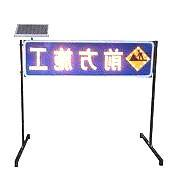sign: (25, 43, 153, 75)
